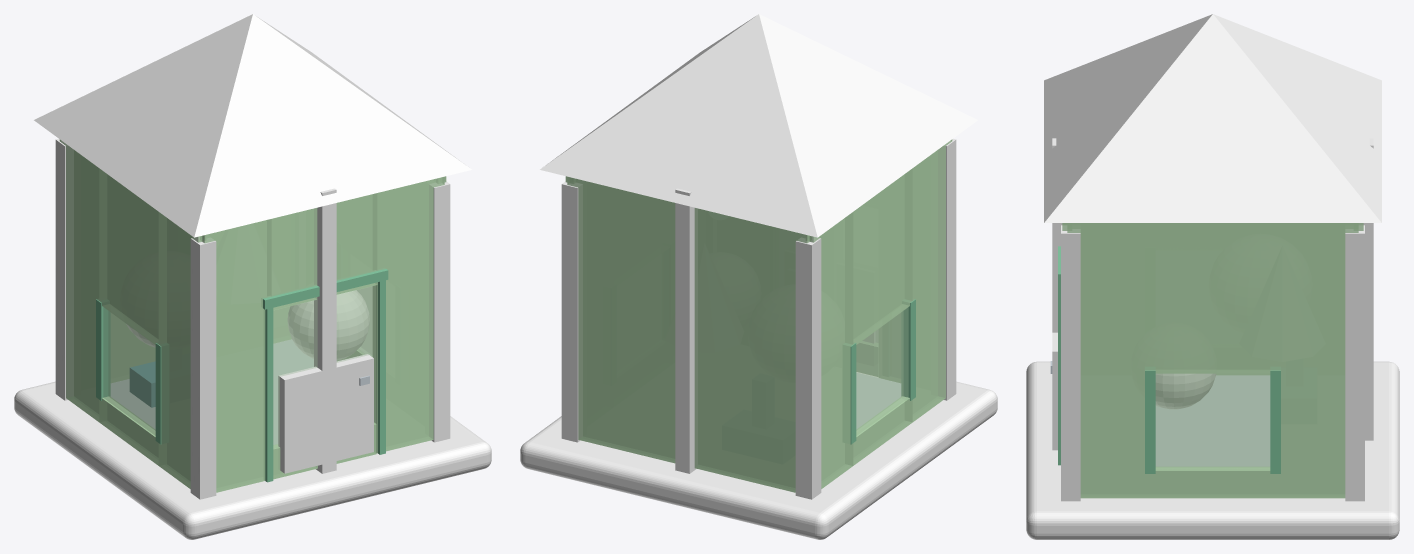
Rendered from greenhouse.glb.
3 renders of one model, left to right at view 1: azimuth 30°, elevation 25°; view 2: azimuth 150°, elevation 25°; view 3: azimuth 270°, elevation 25°, orthographic. The views are drawn at different scales.
Parts seen in each view (by area): view 1: Original_glass_1, Original_wood, Shell_Front_Side_1, Shell_Front_Side_-1, Original_accent, Shell_Side_-1_End_-1, Shell_Side_-1_End_1, Shell_Side_-1_Header, Shell_Front_Header, Original_wood_2, Door_Main_Glass, Original_wood_4 (+14 smaller); view 2: Shell_Back, Original_glass_1, Original_wood, Shell_Side_-1_End_1, Shell_Side_-1_End_-1, Shell_Side_-1_Header, Original_wood_1, Original_wood_6, Original_wood_3, Window_Right_Glass, Original_wood_2, Shell_Side_-1_Sill (+5 smaller); view 3: Original_glass_1, Original_wood, Shell_Side_1_End_-1, Shell_Side_1_End_1, Shell_Side_1_Header, Window_Left_Glass, Walkable_Interior_Floor, Original_wood_4, Original_wood_3, Shell_Side_1_Sill, Original_wood_6, Original_leaf_1 (+5 smaller).
Boxes of the visible parts, bbox=[...] form: Original_glass_1: bbox=[34, 14, 471, 237]; Original_wood: bbox=[14, 381, 491, 539]; Shell_Front_Side_1: bbox=[373, 176, 444, 453]; Shell_Front_Side_-1: bbox=[200, 219, 271, 492]; Original_accent: bbox=[278, 354, 373, 473]; Shell_Side_-1_End_-1: bbox=[59, 139, 99, 421]; Shell_Side_-1_End_1: bbox=[158, 212, 205, 488]; Shell_Side_-1_Header: bbox=[99, 168, 158, 344]; Shell_Front_Header: bbox=[271, 193, 377, 310]; Original_wood_2: bbox=[190, 237, 216, 499]; Door_Main_Glass: bbox=[273, 285, 376, 448]; Original_wood_4: bbox=[429, 181, 450, 442]; Shell_Back: bbox=[567, 176, 811, 492]; Original_glass_1: bbox=[540, 14, 977, 237]; Original_wood: bbox=[520, 372, 997, 539]; Shell_Side_-1_End_1: bbox=[912, 139, 952, 421]; Shell_Side_-1_End_-1: bbox=[806, 212, 853, 488]; Shell_Side_-1_Header: bbox=[853, 168, 912, 344]; Original_wood_1: bbox=[795, 237, 821, 499]; Original_wood_6: bbox=[675, 188, 697, 473]; Original_wood_3: bbox=[561, 181, 582, 442]; Window_Right_Glass: bbox=[856, 307, 908, 435]; Original_wood_2: bbox=[938, 138, 956, 400]; Shell_Side_-1_Sill: bbox=[853, 396, 912, 465]; Original_glass_1: bbox=[1044, 14, 1381, 222]; Original_wood: bbox=[1026, 361, 1399, 539]; Shell_Side_1_End_-1: bbox=[1275, 223, 1358, 498]; Shell_Side_1_End_1: bbox=[1067, 223, 1150, 498]; Shell_Side_1_Header: bbox=[1150, 223, 1275, 373]; Window_Left_Glass: bbox=[1155, 373, 1270, 469]; Walkable_Interior_Floor: bbox=[1156, 375, 1269, 466]; Original_wood_4: bbox=[1061, 225, 1080, 501]; Original_wood_3: bbox=[1345, 225, 1364, 501]; Shell_Side_1_Sill: bbox=[1150, 467, 1275, 498]; Original_wood_6: bbox=[1359, 138, 1373, 440]; Original_leaf_1: bbox=[1156, 374, 1215, 408].
Bounding box in the file's own units: 1.72 × 2.29 × 1.72.
